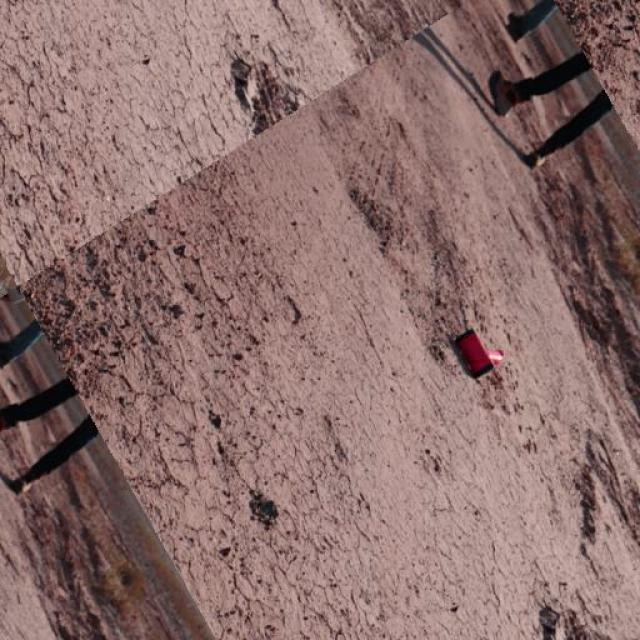mallet: (456, 326, 506, 376)
